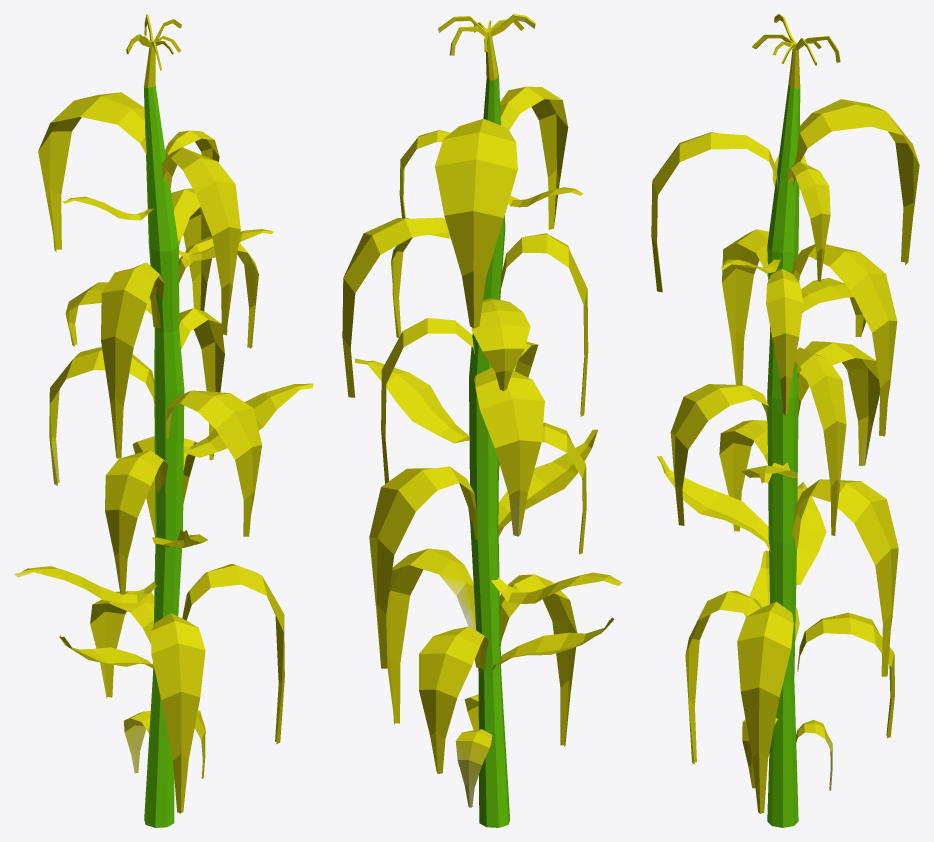
The model's file is corn.fbx.
The picture shows the model from 3 angles, left to right: view 1: azimuth 30°, elevation 25°; view 2: azimuth 150°, elevation 25°; view 3: azimuth 270°, elevation 25°; orthographic projection. The views are drawn at different scales.
Parts seen in each view (by area): view 1: corn; view 2: corn; view 3: corn.
Part boxes in pixels (x1,y1,x2,y2): corn: (14,14,313,827); corn: (342,14,622,827); corn: (651,14,919,827).
Bounding box in the file's own units: 167 × 450 × 138.
